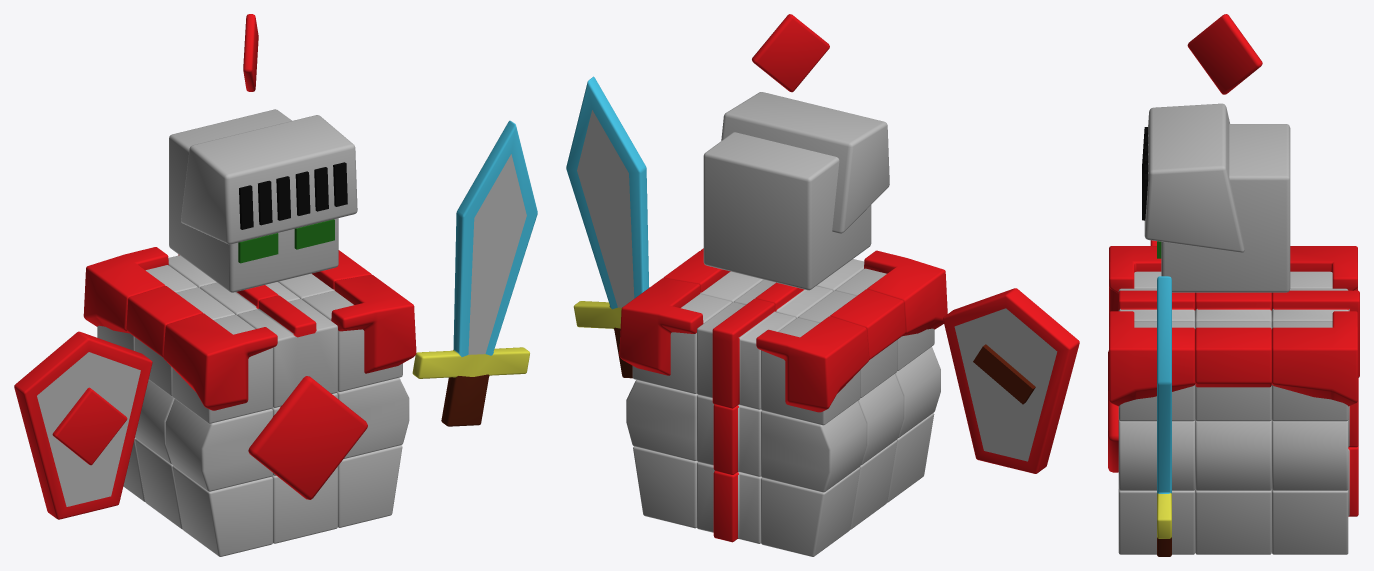
Rendered from Knight.fbx.
The picture shows the model from 3 angles, left to right: view 1: azimuth 30°, elevation 25°; view 2: azimuth 150°, elevation 25°; view 3: azimuth 270°, elevation 25°; orthographic projection. The views are drawn at different scales.
Visible parts, largest first — view 1: Shield, Sword, Head_Helmet, Head_Main, Cube.005, Cube.006, Label_Body, Cube.010, Cube.028, Cube.030, Cube.003, Cube.027 (+10 smaller); view 2: Head_Main, Shield, Sword, Head_Helmet, Cube.003, Cube.050, Cube.008, Cube.048, Cube.046, Cube.005, Cube.027, Cube.053 (+11 smaller); view 3: Head_Main, Head_Helmet, Cube.050, Cube.004, Cube.006, Cube.001, Cube.053, Cube.012, Cube.013, Cube.002, Sword, Cube.011 (+9 smaller).
Part boxes in pixels (x1,y1,x2,y2): Shield: (14, 331, 152, 519); Sword: (412, 120, 537, 426); Head_Helmet: (181, 115, 357, 244); Head_Main: (169, 109, 338, 292); Cube.005: (163, 313, 277, 423); Cube.006: (302, 274, 416, 391); Label_Body: (248, 376, 367, 499); Cube.010: (165, 399, 272, 491); Cube.028: (172, 466, 272, 556); Cube.030: (237, 295, 337, 407); Cube.003: (83, 247, 197, 350); Cube.027: (126, 286, 235, 396); Head_Main: (703, 132, 871, 290); Shield: (943, 288, 1079, 473); Sword: (566, 76, 649, 378); Head_Helmet: (721, 92, 889, 233); Cube.003: (756, 316, 869, 425); Cube.050: (619, 278, 731, 393); Cube.008: (761, 401, 866, 492); Cube.048: (697, 298, 795, 409); Cube.046: (761, 467, 859, 556); Cube.005: (835, 250, 947, 370); Cube.027: (798, 289, 905, 398); Cube.053: (626, 380, 697, 460); Head_Main: (1157, 124, 1290, 292); Head_Helmet: (1142, 103, 1244, 252); Cube.050: (1272, 311, 1357, 421); Cube.004: (1195, 321, 1271, 421); Cube.006: (1109, 311, 1195, 421); Cube.001: (1195, 419, 1271, 490); Cube.053: (1272, 420, 1348, 490); Cube.012: (1195, 489, 1271, 554); Cube.013: (1272, 490, 1348, 554); Cube.002: (1118, 419, 1195, 490); Sword: (1157, 276, 1171, 556); Cube.011: (1118, 489, 1195, 554).
Bounding box in the file's own units: 792 × 715 × 329.
